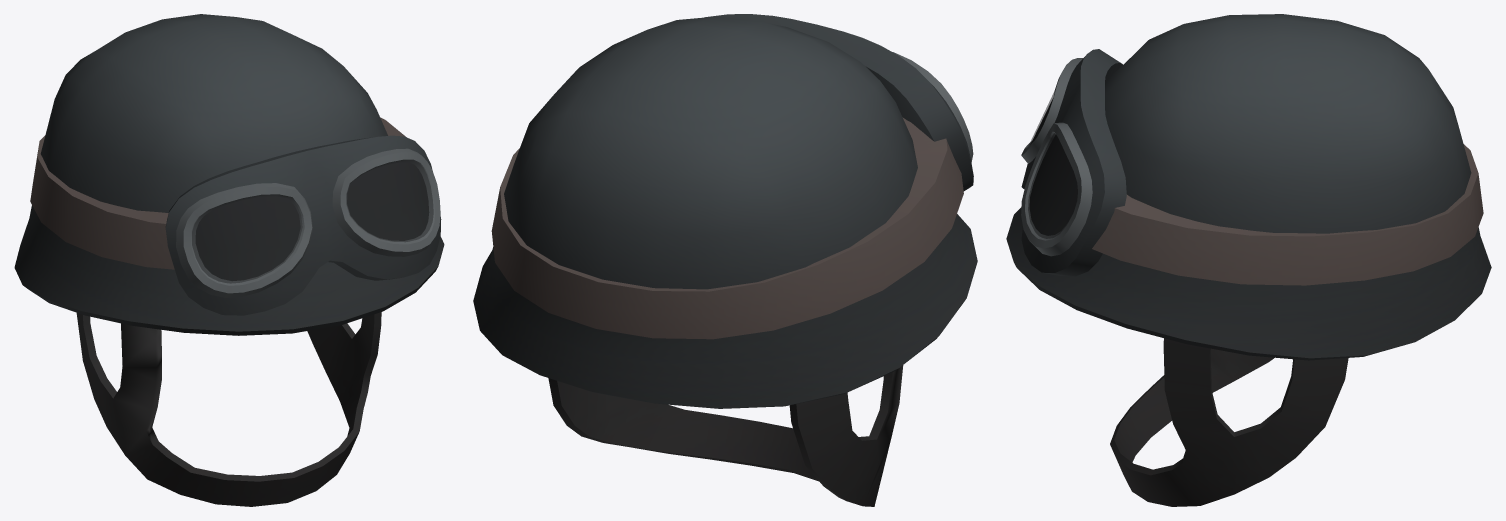
Rendered from hat_057.glb.
The picture shows the model from 3 angles, left to right: view 1: azimuth 30°, elevation 25°; view 2: azimuth 150°, elevation 25°; view 3: azimuth 270°, elevation 25°; orthographic projection. The views are drawn at different scales.
Visible parts, largest first — view 1: Hat_057; view 2: Hat_057; view 3: Hat_057.
Part boxes in pixels (x1,y1,x2,y2): Hat_057: (14, 14, 444, 506); Hat_057: (473, 14, 977, 506); Hat_057: (1006, 14, 1491, 506).
Size of the model in its own units: 0.3477 by 0.3734 by 0.3736.
Materials: 2 (2 with a texture image).
